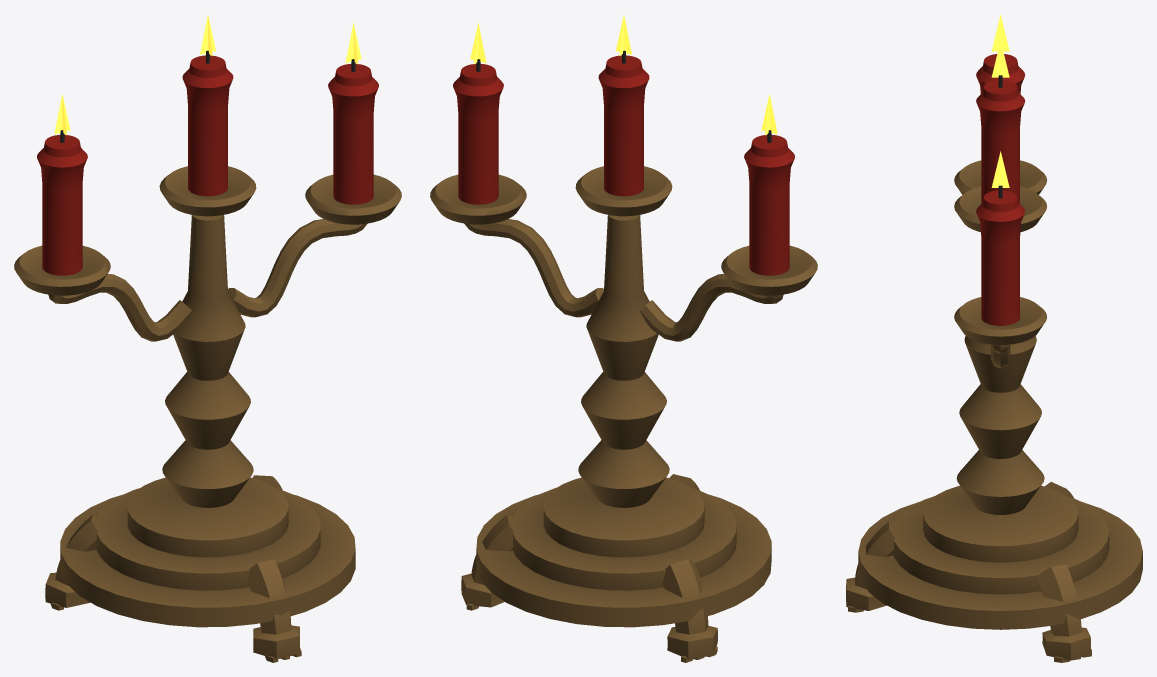
Rendered from zhutai-v3.glb.
The picture shows the model from 3 angles, left to right: view 1: azimuth 30°, elevation 25°; view 2: azimuth 150°, elevation 25°; view 3: azimuth 270°, elevation 25°; orthographic projection. The views are drawn at different scales.
Parts seen in each view (by area): view 1: zhutai_bronze, zhutai_wax, zhutai_flame; view 2: zhutai_bronze, zhutai_wax, zhutai_flame; view 3: zhutai_bronze, zhutai_wax, zhutai_flame.
Part boxes in pixels (x1,y1,x2,y2): zhutai_bronze: (14, 166, 401, 662); zhutai_wax: (37, 55, 378, 275); zhutai_flame: (54, 15, 361, 135); zhutai_bronze: (430, 166, 817, 662); zhutai_wax: (453, 55, 794, 275); zhutai_flame: (470, 15, 777, 135); zhutai_bronze: (846, 160, 1142, 662); zhutai_wax: (976, 54, 1025, 325); zhutai_flame: (991, 14, 1009, 187).
Bounding box in the file's own units: 0.322 × 0.484 × 0.2296.
